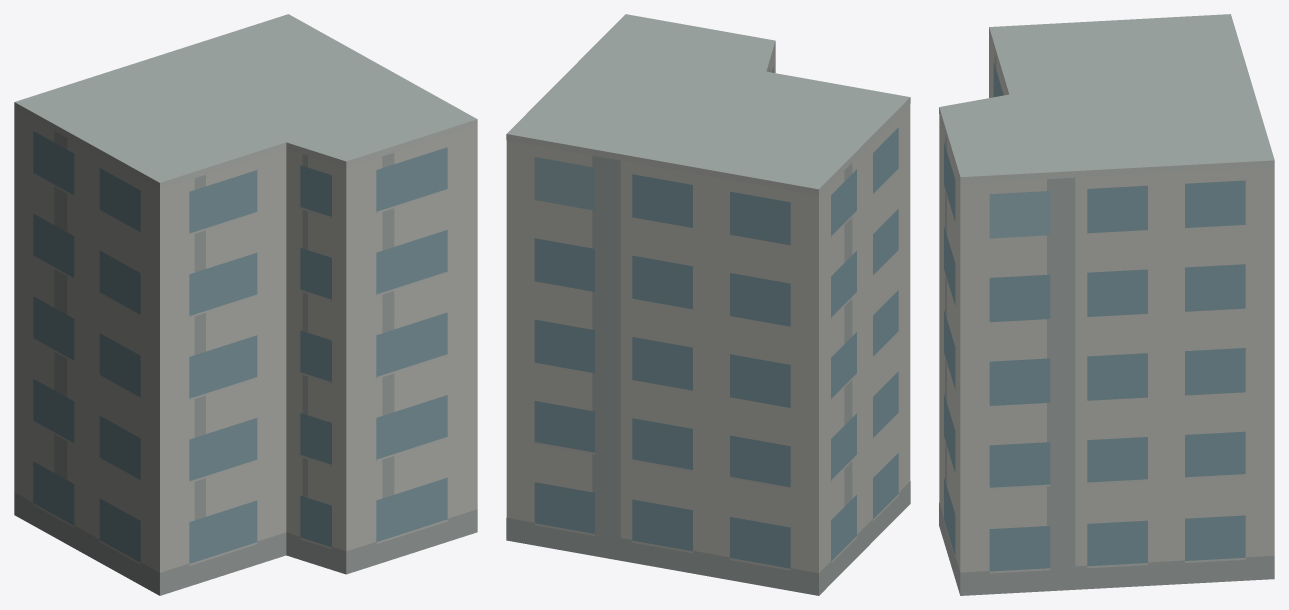
File: residential-87cf29a6-ce99-46f9-a3c0-1ffc58461902.glb
3 views of the same model, side by side, from view 1: azimuth 30°, elevation 25°; view 2: azimuth 150°, elevation 25°; view 3: azimuth 270°, elevation 25° (orthographic). The views are drawn at different scales.
Parts seen in each view (by area): view 1: residential-87cf29a6-ce99-46f9-a3c0-1ffc58461902.tmp; view 2: residential-87cf29a6-ce99-46f9-a3c0-1ffc58461902.tmp; view 3: residential-87cf29a6-ce99-46f9-a3c0-1ffc58461902.tmp.
Boxes of the visible parts, left/top/right/bottom form: residential-87cf29a6-ce99-46f9-a3c0-1ffc58461902.tmp: left=14, top=14, right=477, bottom=595; residential-87cf29a6-ce99-46f9-a3c0-1ffc58461902.tmp: left=506, top=14, right=910, bottom=595; residential-87cf29a6-ce99-46f9-a3c0-1ffc58461902.tmp: left=939, top=14, right=1274, bottom=595.
Size of the model in its own units: 12.76 by 15.25 by 11.09.
